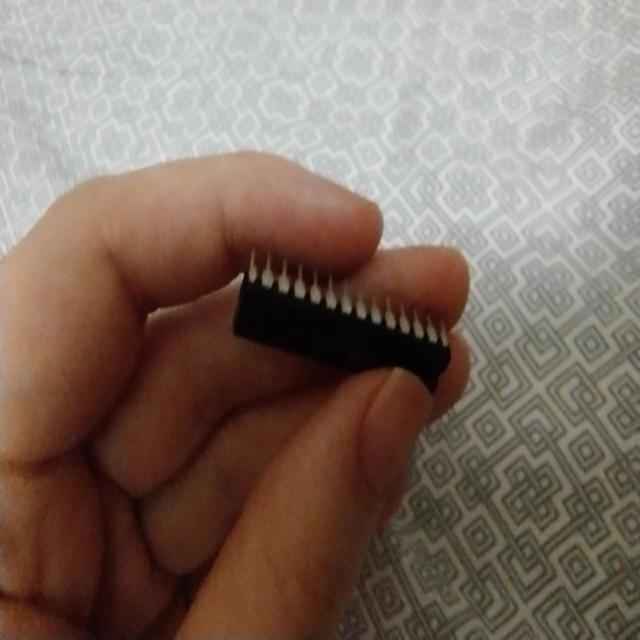atmega: (230, 245, 454, 398)
